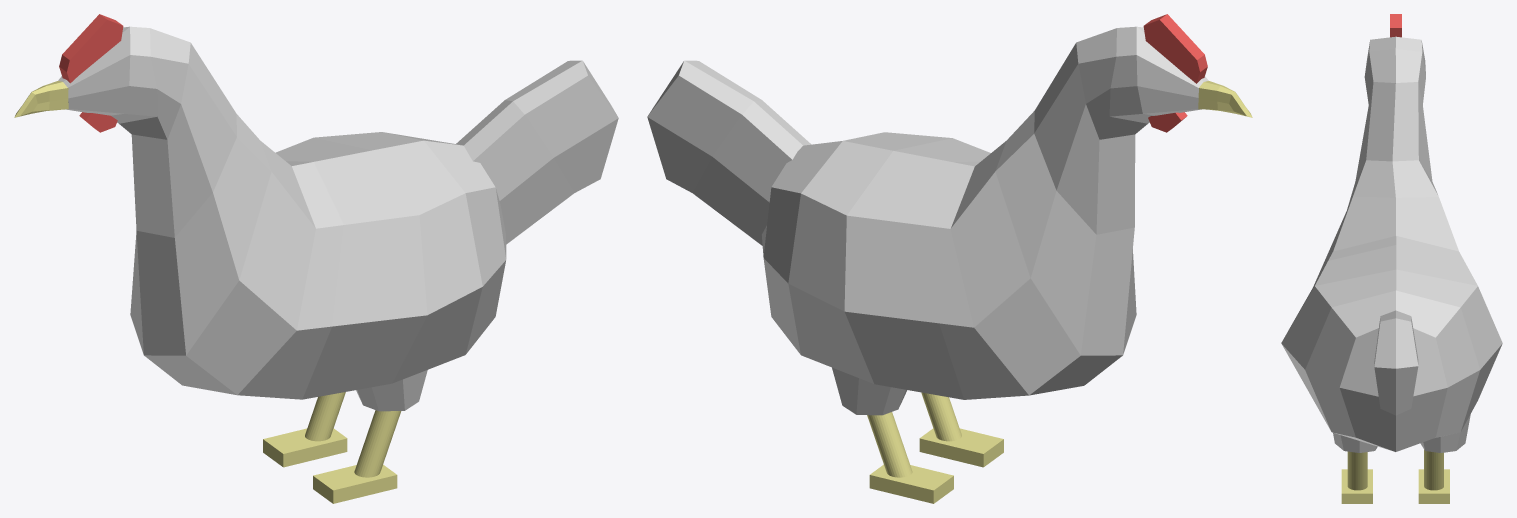
Rendered from WeaponChicken.fbx.
The picture shows the model from 3 angles, left to right: view 1: azimuth 30°, elevation 25°; view 2: azimuth 150°, elevation 25°; view 3: azimuth 270°, elevation 25°; orthographic projection. The views are drawn at different scales.
Visible parts, largest first — view 1: Chicken; view 2: Chicken; view 3: Chicken.
Boxes of the visible parts, x1,y1,x2,y2 form: Chicken: (14, 14, 618, 503); Chicken: (647, 14, 1252, 503); Chicken: (1281, 14, 1502, 503).
Bounding box in the file's own units: 54.1 × 44.08 × 22.55.
